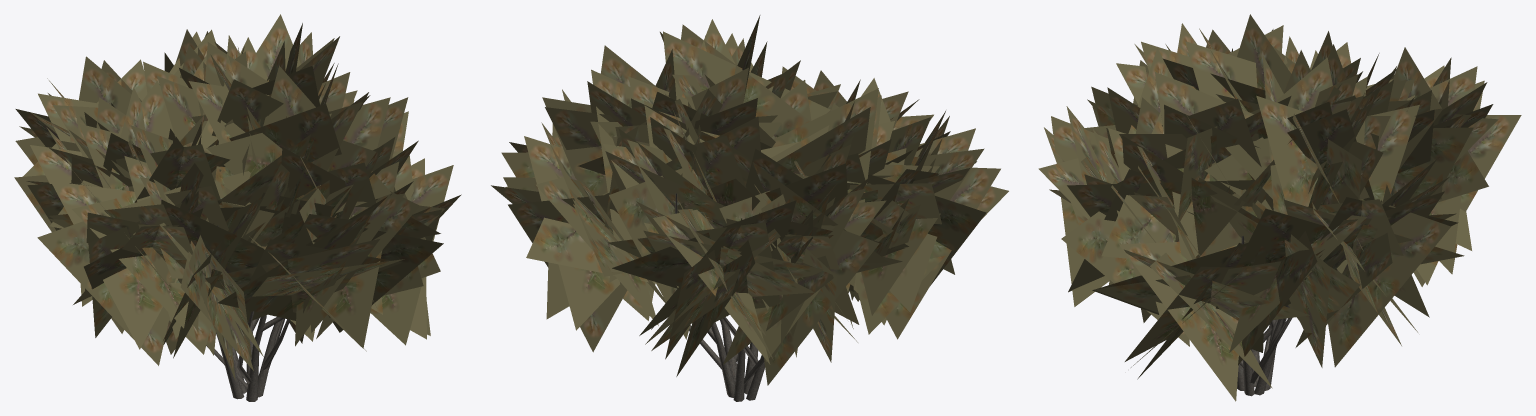
Rendered from Chilopsis_Linearis_Autumn_Young.glb.
3 renders of one model, left to right at view 1: azimuth 30°, elevation 25°; view 2: azimuth 150°, elevation 25°; view 3: azimuth 270°, elevation 25°, orthographic. The views are drawn at different scales.
Parts seen in each view (by area): view 1: Chilopsis_Linearis_Autumn_Young__LOD3; view 2: Chilopsis_Linearis_Autumn_Young__LOD3; view 3: Chilopsis_Linearis_Autumn_Young__LOD3.
Part boxes in pixels (x1,y1,x2,y2): Chilopsis_Linearis_Autumn_Young__LOD3: (14, 14, 461, 401); Chilopsis_Linearis_Autumn_Young__LOD3: (491, 15, 1008, 401); Chilopsis_Linearis_Autumn_Young__LOD3: (1038, 14, 1521, 401).
Size of the model in its own units: 3.03 by 2.24 by 2.94.
Materials: 3 (3 with a texture image).
